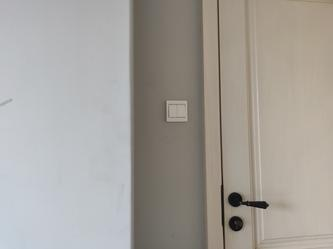switch: (169, 104, 187, 117)
